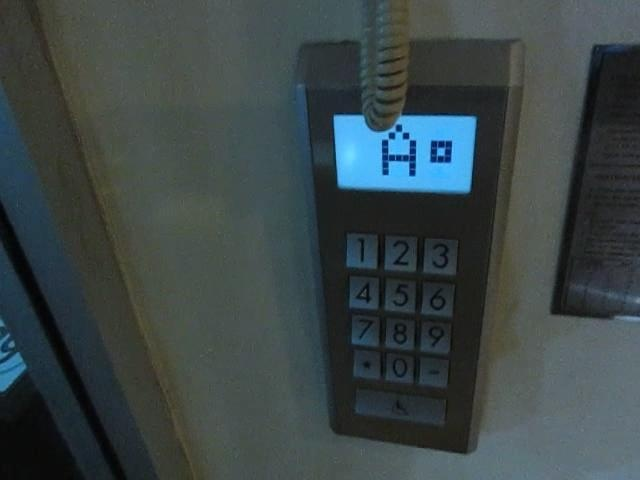*: (352, 346, 384, 381)
-: (417, 354, 451, 390)
0: (385, 349, 416, 385)
1: (344, 230, 379, 273)
2: (383, 233, 420, 276)
3: (421, 234, 459, 280)
4: (347, 273, 382, 312)
5: (382, 276, 418, 317)
6: (418, 278, 455, 318)
7: (350, 311, 381, 349)
8: (383, 314, 416, 352)
9: (419, 318, 453, 357)
CH: (352, 383, 450, 428)
led: (331, 111, 477, 196)
